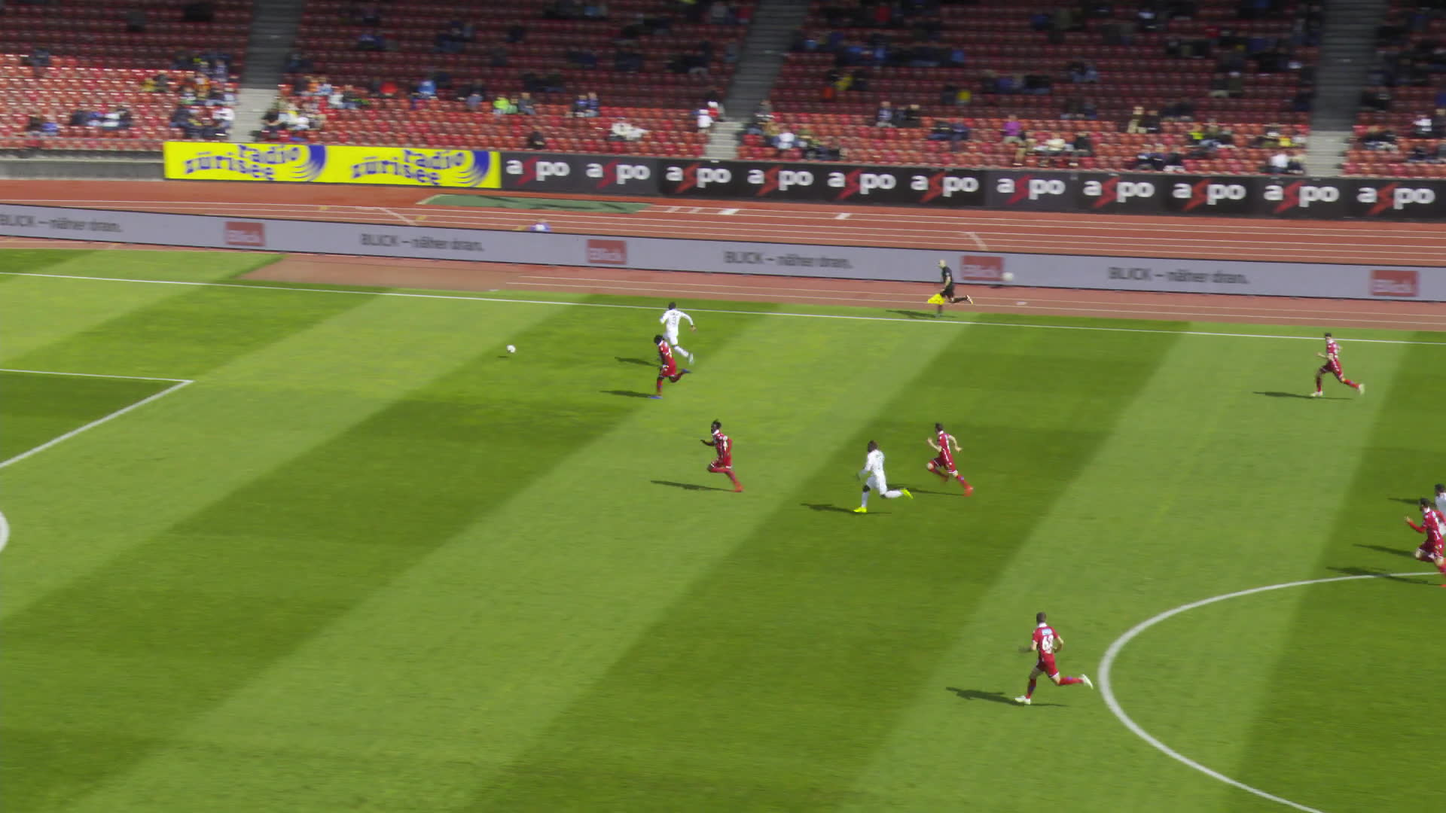ball: (500, 344, 511, 353)
player: (1023, 609, 1083, 707), (641, 330, 699, 397), (700, 417, 751, 490), (857, 440, 905, 517), (1406, 495, 1445, 582), (924, 421, 969, 495), (1310, 332, 1347, 398), (652, 302, 688, 363), (1432, 480, 1445, 535)
referee: (926, 257, 967, 317)
